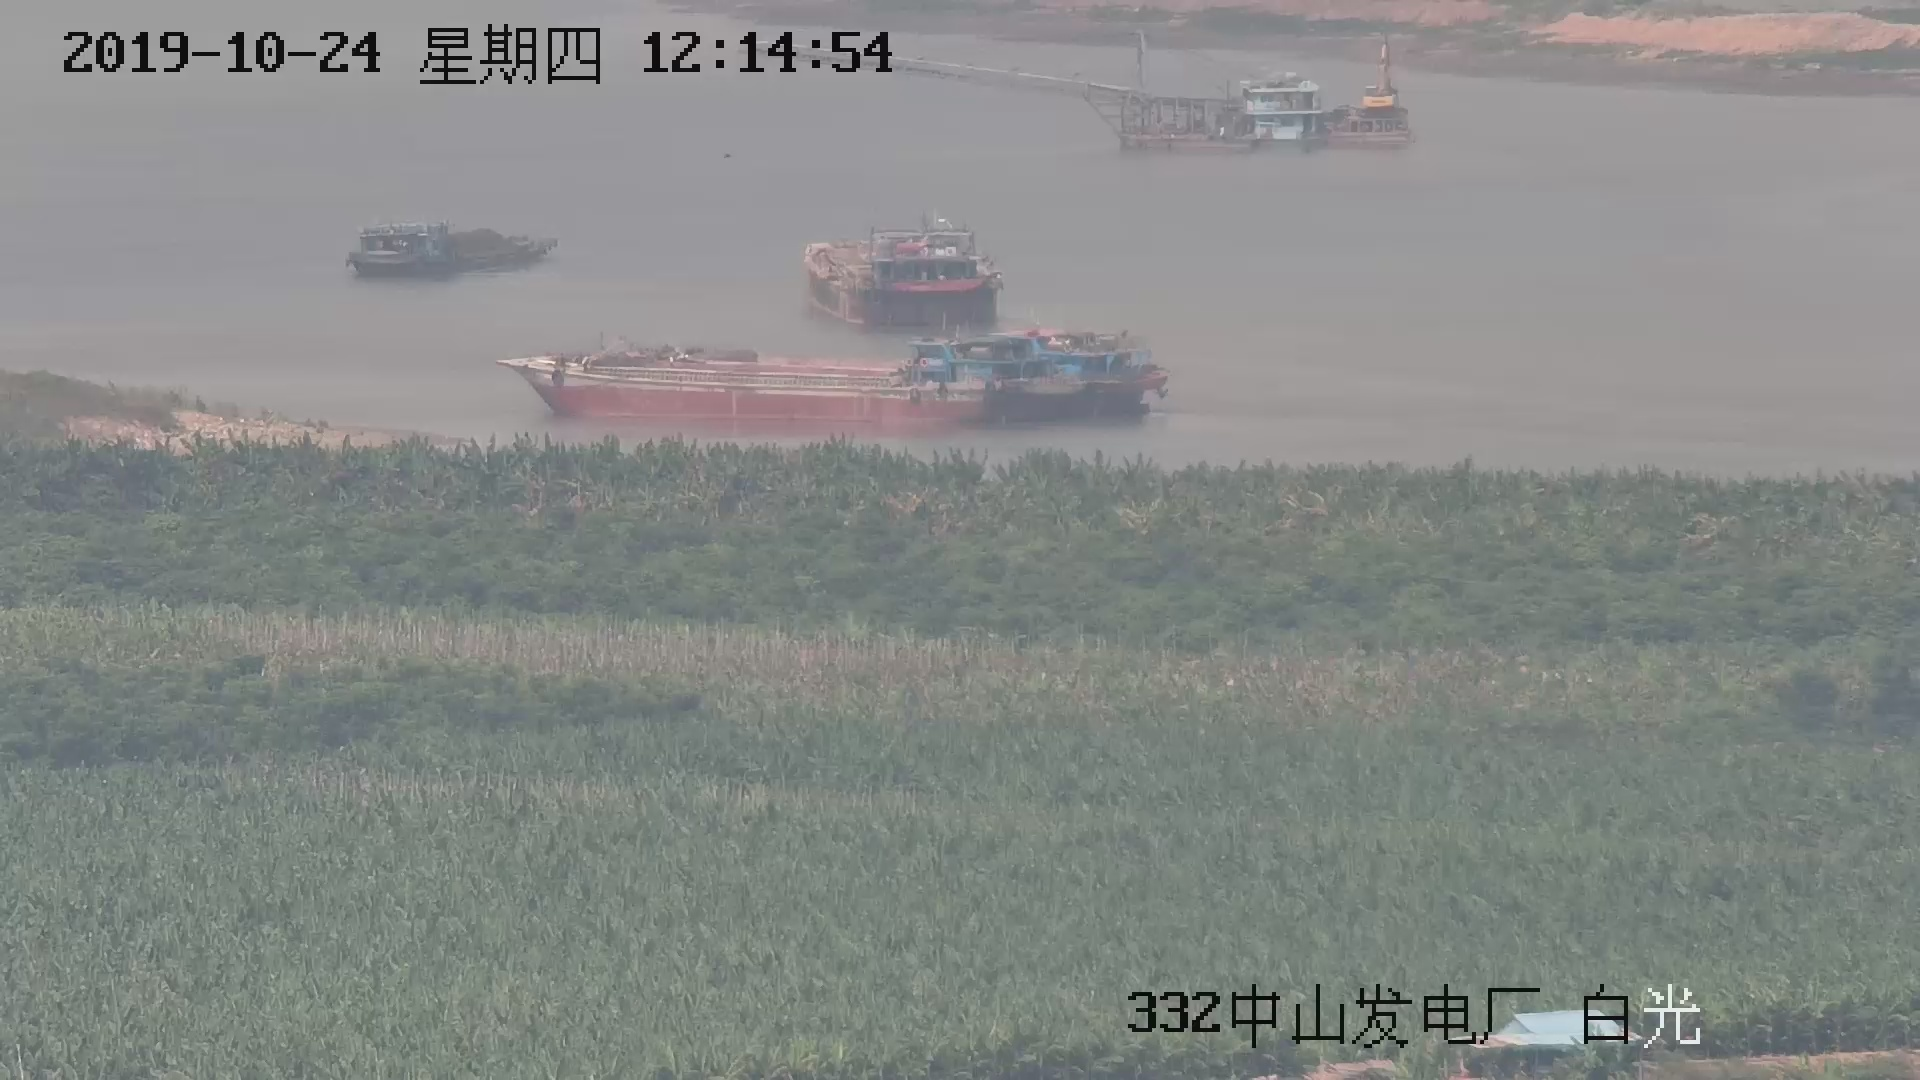ship: (516, 313, 1171, 426), (802, 218, 1004, 334), (345, 214, 550, 280)
